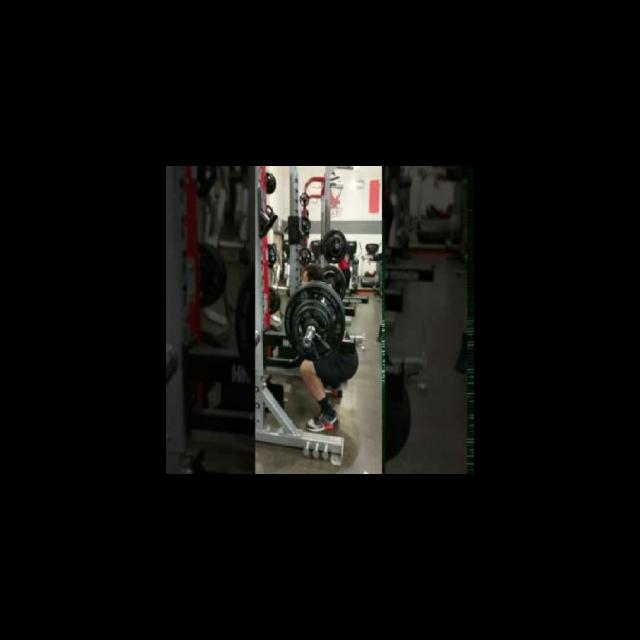barbell: (284, 282, 348, 364)
